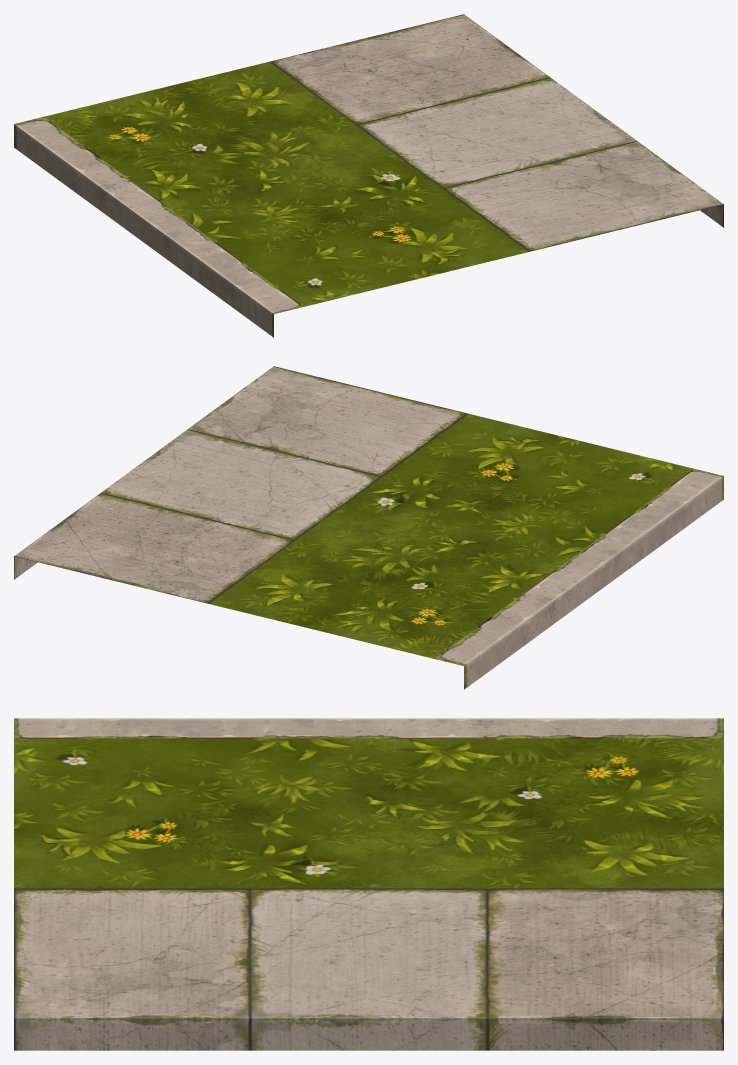
Rendered from sidewalk01.fbx.
3 views of the same model, one above another, from view 1: azimuth 30°, elevation 25°; view 2: azimuth 150°, elevation 25°; view 3: azimuth 270°, elevation 25° (orthographic). The views are drawn at different scales.
Visible parts, largest first — view 1: sidewalk01; view 2: sidewalk01; view 3: sidewalk01.
Part boxes in pixels (bbox=[...]): sidewalk01: bbox=[14, 14, 723, 337]; sidewalk01: bbox=[14, 366, 723, 689]; sidewalk01: bbox=[14, 718, 723, 1050].
Bounding box in the file's own units: 300 × 15 × 300.
